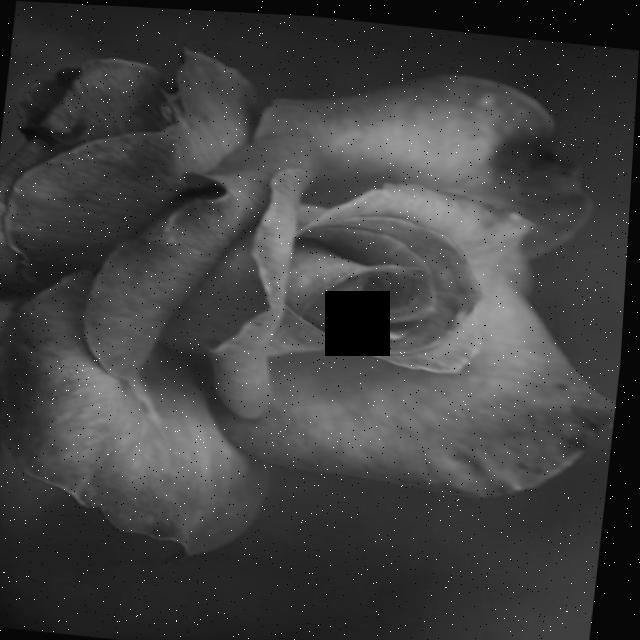rose: (0, 20, 634, 570)
